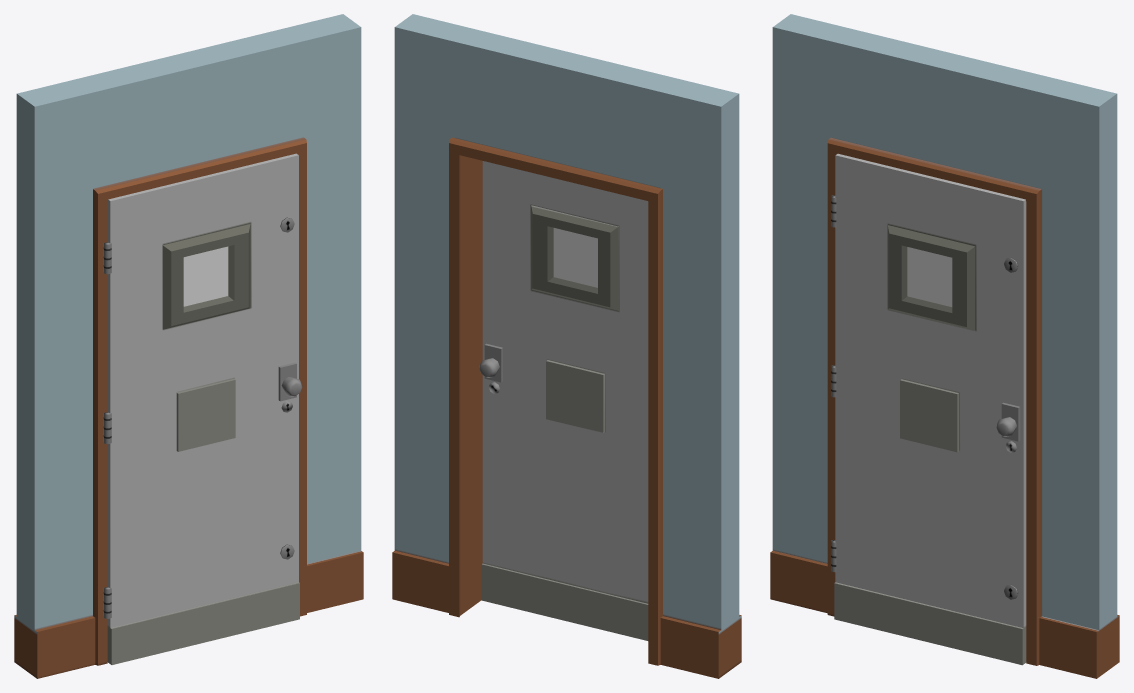
Rendered from door_animation_opening.fbx.
3 views of the same model, side by side, from view 1: azimuth 30°, elevation 25°; view 2: azimuth 150°, elevation 25°; view 3: azimuth 330°, elevation 25° (orthographic).
Visible parts, largest first — view 1: walltile_door, Door, scharnieren; view 2: walltile_door, Door; view 3: walltile_door, Door, scharnieren.
Part boxes in pixels (x1,y1,x2,y2): walltile_door: (14,14,363,678); Door: (107,153,302,664); scharnieren: (103,242,111,618); walltile_door: (392,14,741,678); Door: (479,161,648,640); walltile_door: (770,14,1119,678); Door: (834,153,1026,665); scharnieren: (831,195,836,572).
Size of the model in its own units: 8.76 by 14.62 by 1.77.
